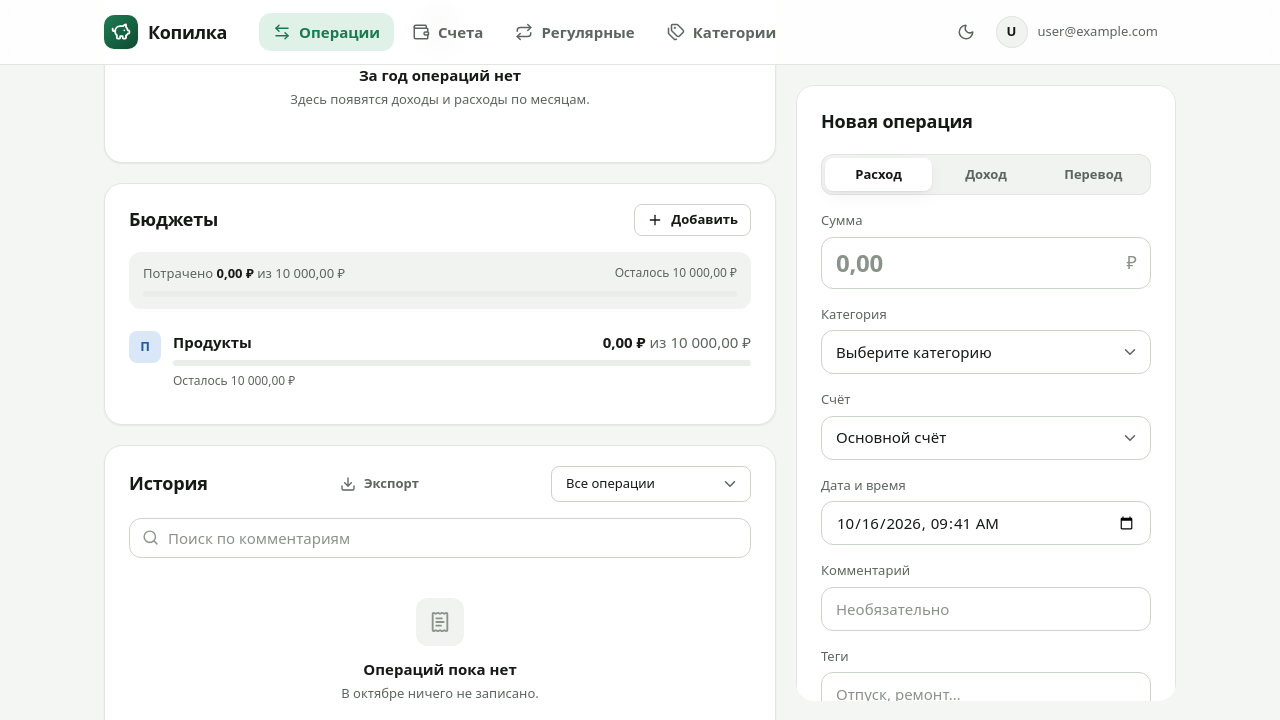
Test: BudgetPanel › stops a budget from the shown month
(page scrolled)
Click the button "П Продукты 0,00 ₽ из 10 000,00 ₽ Осталось 10 000,00 ₽": {"x": 440, "y": 360} [119,321,761,400]
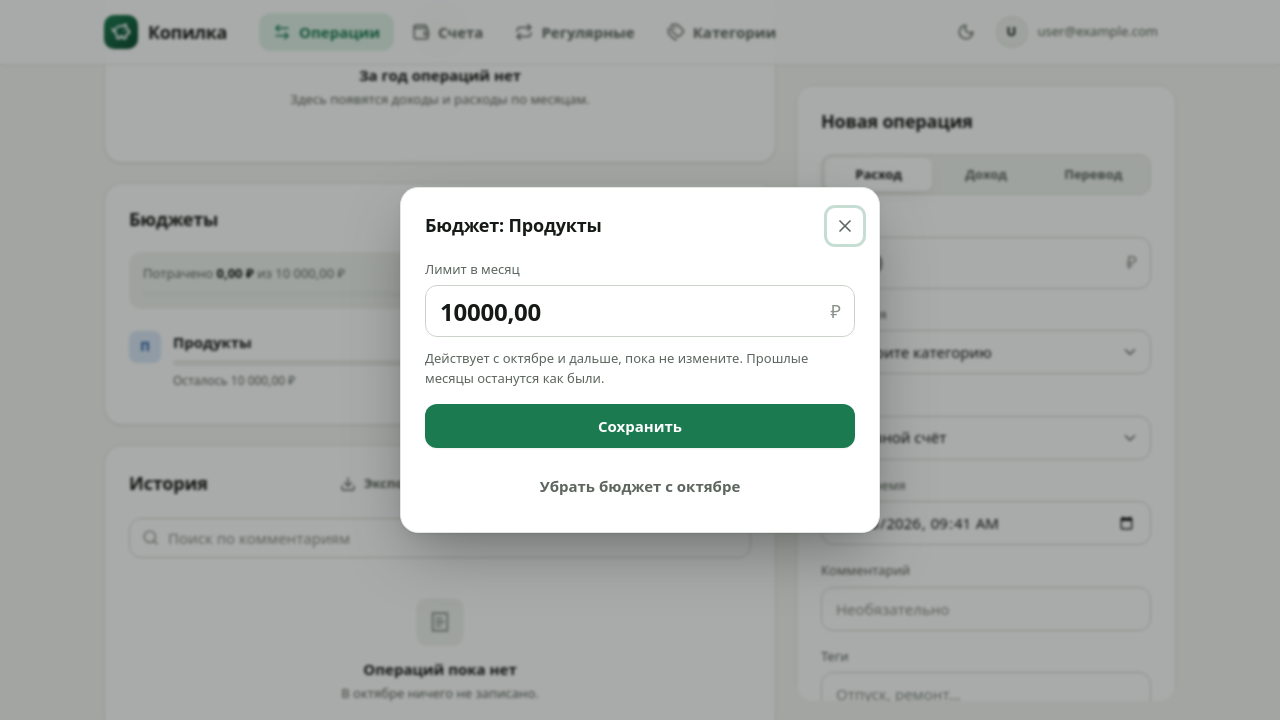
Click the button "Убрать бюджет с октябре": {"x": 640, "y": 486} [425,464,855,508]
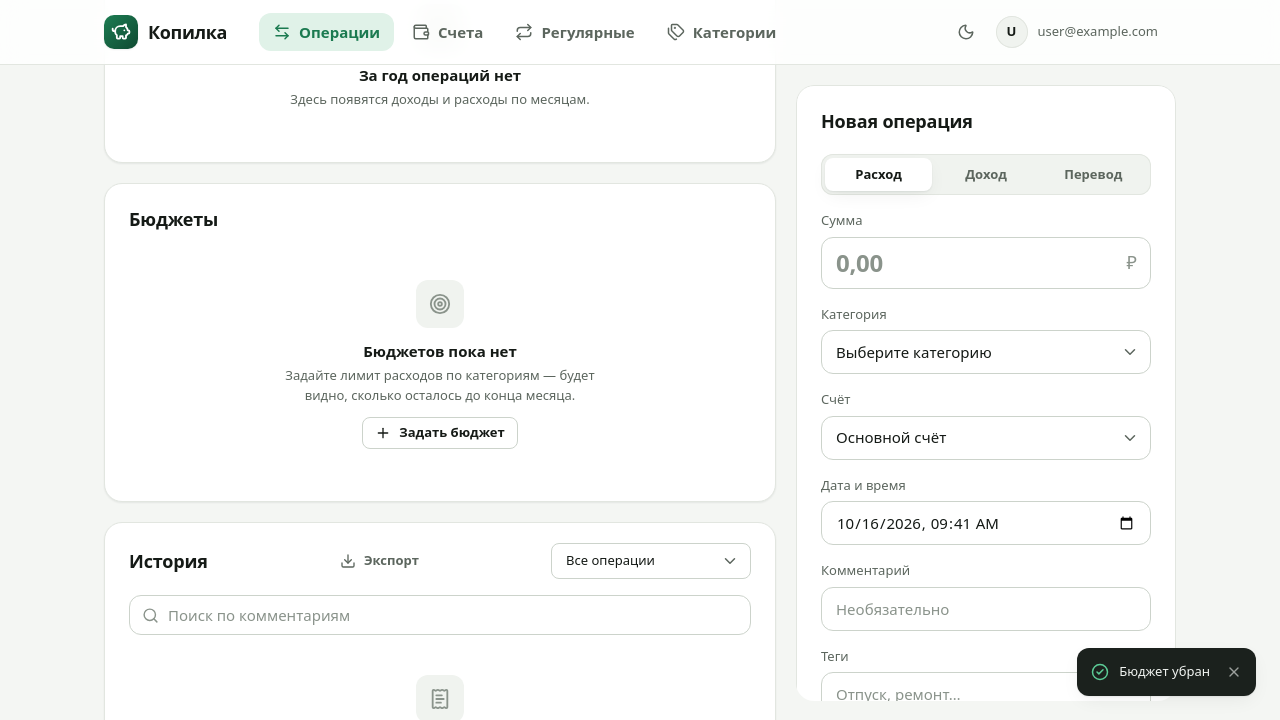
Now the text "Бюджетов пока нет" is shown, box [363,340,517,362]
